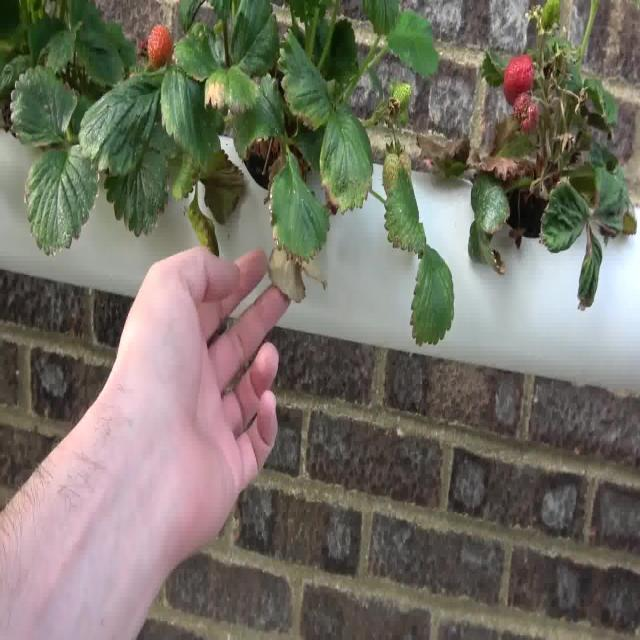Fruta sana: (136, 21, 174, 66), (496, 57, 536, 91)
Mancha negra Antracnosis: (514, 96, 536, 130)
